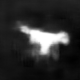plane: (15, 19, 71, 61)
